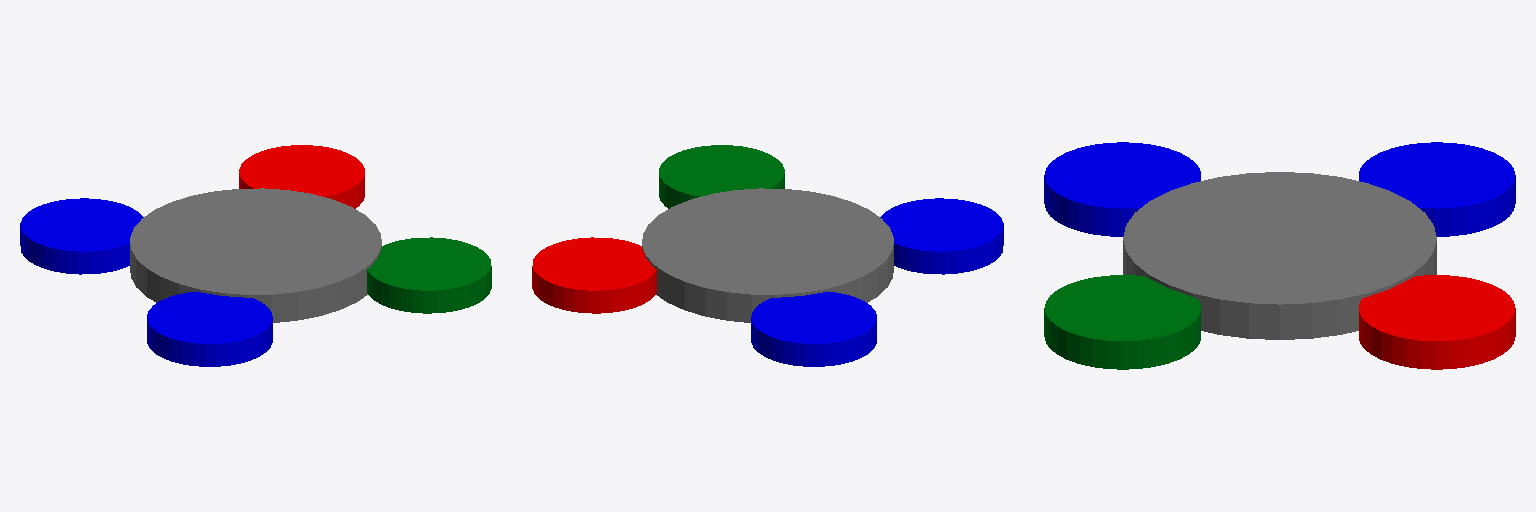
URDF robot description (quadrotor):
<?xml version="1.0"?>
<robot name="quadrotor">
  <link name="base_link">
    <visual>
      <origin xyz="0 0 0.0"/>
      <geometry>
        <cylinder radius="0.1" length="0.025"/>
      </geometry>
      <material name="Grey">
        <color rgba="0.5 0.5 0.5 1.0"/>
      </material>
    </visual>
    <collision>
      <origin xyz="0 0 0"/>
      <geometry>
        <!-- <sphere radius="0.01"/> -->
        <!-- <box size="0.15 0.15 0.03"/> -->
        <cylinder radius="0.2" length="0.04"/>
      </geometry>
    </collision>
    <inertial>
      <mass value="1.9"/>
      <inertia ixx="0.05" ixy="0.0" ixz="0.0" iyy="0.05" iyz="0.0" izz="0.05"/>
    </inertial>
  </link>
  <link name="front_left_prop">
    <visual>
      <origin xyz="0 0 0"/>
      <geometry>
        <cylinder radius="0.05" length="0.02"/>
      </geometry>
      <material name="Red">
        <color rgba="1 0 0 1.0"/>
      </material>
    </visual>
    <inertial>
      <mass value="0.01"/>
      <inertia ixx="0.000001" ixy="0.0" ixz="0.0" iyy="0.000001" iyz="0.0" izz="0.000001"/>
    </inertial>
  </link>
  <link name="front_right_prop">
    <visual>
      <origin xyz="0 0 0"/>
      <geometry>
        <cylinder radius="0.05" length="0.02"/>
      </geometry>
      <material name="Red">
        <color rgba="0 0.50 0.1 1.0"/>
      </material>
    </visual>
    <inertial>
      <mass value="0.01"/>
      <inertia ixx="0.000001" ixy="0.0" ixz="0.0" iyy="0.000001" iyz="0.0" izz="0.000001"/>
    </inertial>
  </link>
  <link name="back_left_prop">
    <visual>
      <origin xyz="0 0 0"/>
      <geometry>
        <cylinder radius="0.05" length="0.02"/>
      </geometry>
      <material name="Blue">
        <color rgba="0 0 1 1.0"/>
      </material>
    </visual>
    <inertial>
      <mass value="0.01"/>
      <inertia ixx="0.000001" ixy="0.0" ixz="0.0" iyy="0.000001" iyz="0.0" izz="0.000001"/>
    </inertial>
  </link>
  <link name="back_right_prop">
    <visual>
      <origin xyz="0 0 0"/>
      <geometry>
        <cylinder radius="0.05" length="0.02"/>
      </geometry>
      <material name="Blue">
        <color rgba="0 0 1 1.0"/>
      </material>
    </visual>
    <inertial>
      <mass value="0.01"/>
      <inertia ixx="0.000001" ixy="0.0" ixz="0.0" iyy="0.000001" iyz="0.0" izz="0.000001"/>
    </inertial>
  </link>
  <joint name="base_link_to_front_left_prop" type="fixed" dont_collapse="true">    
    <parent link="base_link"/>    
    <child link="front_left_prop"/>    
    <origin xyz="0.100 0.100 0"/>  
  </joint>
  <joint name="base_link_to_front_right_prop" type="fixed" dont_collapse="true">    
    <parent link="base_link"/>    
    <child link="front_right_prop"/>    
    <origin xyz="0.100 -0.100 0"/>
  </joint>
  <joint name="base_link_to_back_right_prop" type="fixed" dont_collapse="true">    
    <parent link="base_link"/>    
    <child link="back_right_prop"/>    
    <origin xyz="-0.100 -0.100 0"/> 
  </joint>
  <joint name="base_link_to_back_left_prop" type="fixed" dont_collapse="true">    
    <parent link="base_link"/>    
    <child link="back_left_prop"/>    
    <origin xyz="-0.100 0.100 0"/> 
  </joint>
</robot>

--- What the picture shows (computed from the rendered views, not written in the file) ---
The picture shows the robot from 3 angles, left to right: view 1: azimuth 30°, elevation 25°; view 2: azimuth 150°, elevation 25°; view 3: azimuth 270°, elevation 25°; orthographic projection.
Robot: quadrotor — 5 links, 4 joints (4 fixed); root link base_link; default pose: every joint at zero.
Visible links, largest first — view 1: base_link, back_right_prop, front_right_prop, back_left_prop, front_left_prop; view 2: base_link, back_left_prop, front_left_prop, back_right_prop, front_right_prop; view 3: base_link, front_left_prop, front_right_prop, back_left_prop, back_right_prop.
Boxes of the visible links, x1,y1,x2,y2 form: base_link: (130, 188, 381, 322); back_right_prop: (147, 291, 272, 366); front_right_prop: (367, 237, 491, 313); back_left_prop: (20, 198, 143, 274); front_left_prop: (239, 145, 364, 208); base_link: (642, 188, 893, 322); back_left_prop: (751, 291, 876, 366); front_left_prop: (532, 237, 656, 313); back_right_prop: (880, 198, 1003, 274); front_right_prop: (659, 145, 784, 208); base_link: (1123, 172, 1436, 339); front_left_prop: (1359, 275, 1515, 369); front_right_prop: (1044, 275, 1200, 369); back_left_prop: (1359, 142, 1515, 236); back_right_prop: (1044, 142, 1200, 236).
Bounding box of the posed robot: 0.3 × 0.3 × 0.025 m (x, y, z).
Geometry: primitives only (box / cylinder / sphere), no mesh files.